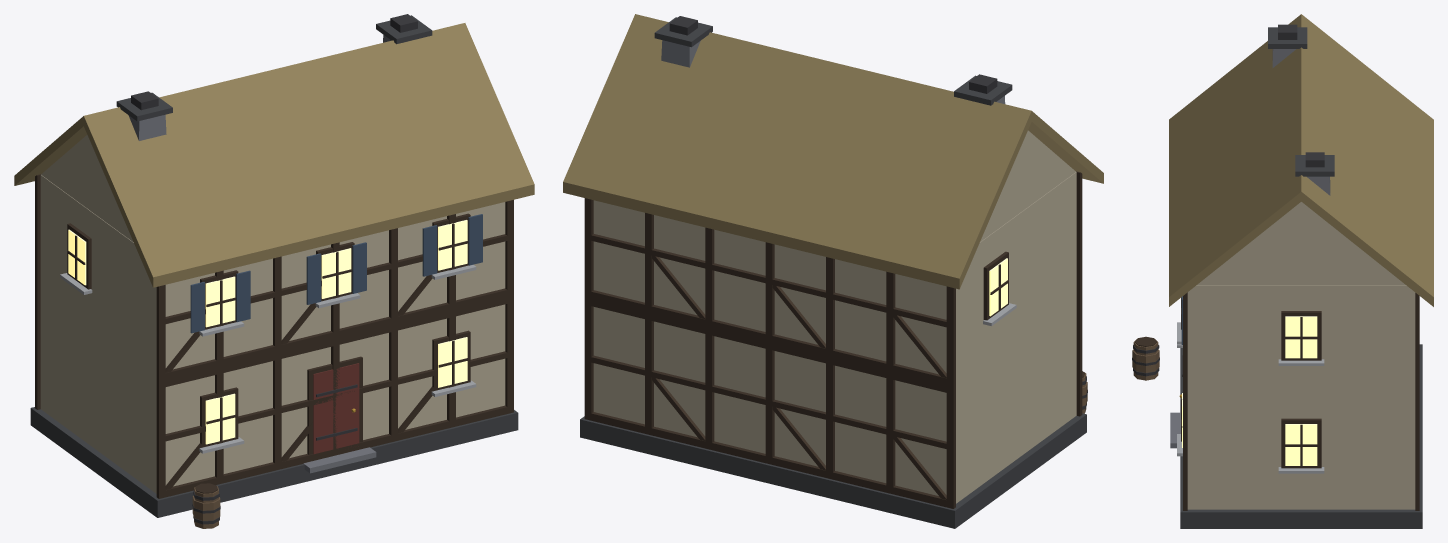
The model's file is bree_house_timber_2.glb.
3 views of the same model, side by side, from view 1: azimuth 30°, elevation 25°; view 2: azimuth 150°, elevation 25°; view 3: azimuth 270°, elevation 25° (orthographic). The views are drawn at different scales.
Parts seen in each view (by area): view 1: bree_house_timber_2; view 2: bree_house_timber_2; view 3: bree_house_timber_2.
Boxes of the visible parts, x1,y1,x2,y2 form: bree_house_timber_2: (14, 14, 534, 528); bree_house_timber_2: (563, 14, 1103, 528); bree_house_timber_2: (1132, 14, 1433, 528).
Size of what is drawn, in the model's own units: 9.2 by 8.51 by 6.61.
